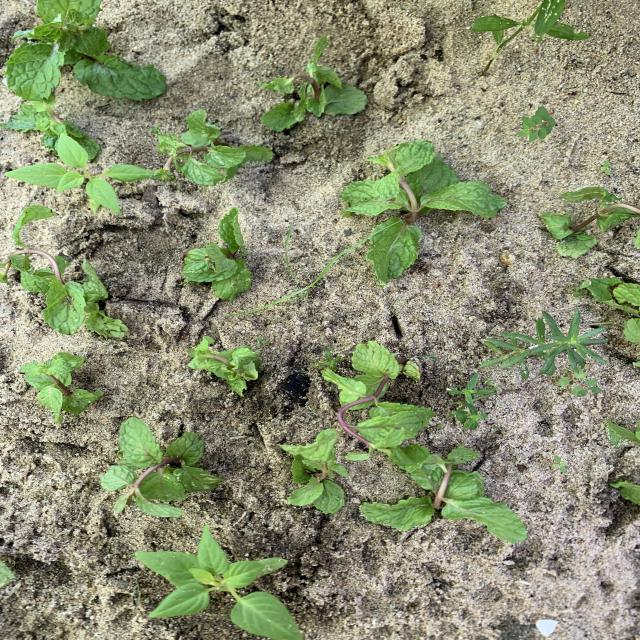crop: (341, 142, 505, 284), (360, 445, 526, 543), (4, 1, 167, 100), (7, 207, 127, 335), (321, 341, 434, 461), (101, 419, 222, 516), (262, 36, 366, 131), (156, 110, 272, 185), (540, 187, 639, 255), (182, 208, 250, 299), (279, 429, 348, 514), (21, 353, 103, 422), (188, 337, 261, 395), (588, 278, 639, 342), (610, 481, 639, 503), (1, 561, 15, 585)
weed: (135, 527, 303, 640), (5, 132, 156, 214), (478, 310, 607, 379), (472, 0, 588, 57), (448, 374, 491, 416), (518, 106, 555, 139), (560, 375, 600, 395), (451, 407, 487, 429), (314, 350, 341, 368), (552, 455, 567, 471), (574, 282, 587, 295), (257, 337, 270, 347), (601, 161, 611, 174), (421, 355, 437, 359)
